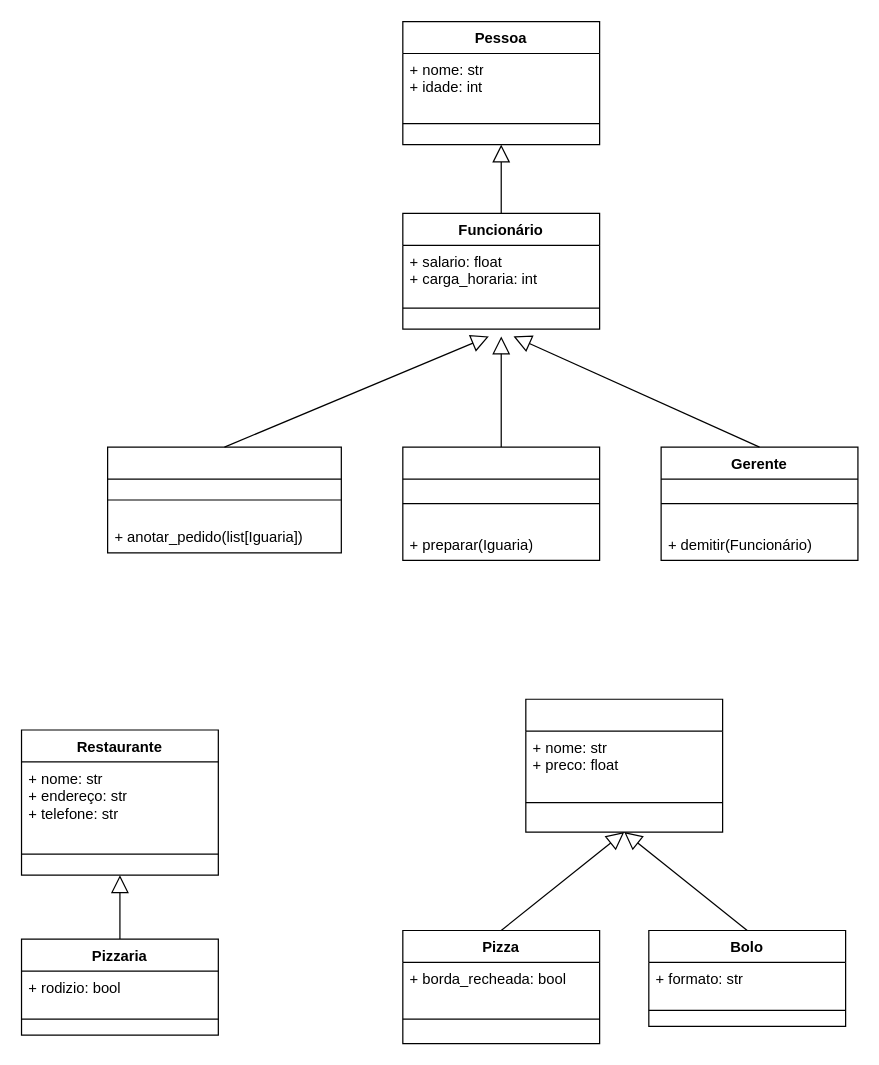
This 879x1065 diagram has some shape labels left out. The box of each missing label's shape, as (x1, y1, x2, y2) in pixels:
Chefe de cozinha: (402, 446, 600, 560)
Garçom: (106, 446, 341, 553)
Iguaria (comida): (525, 698, 723, 832)
